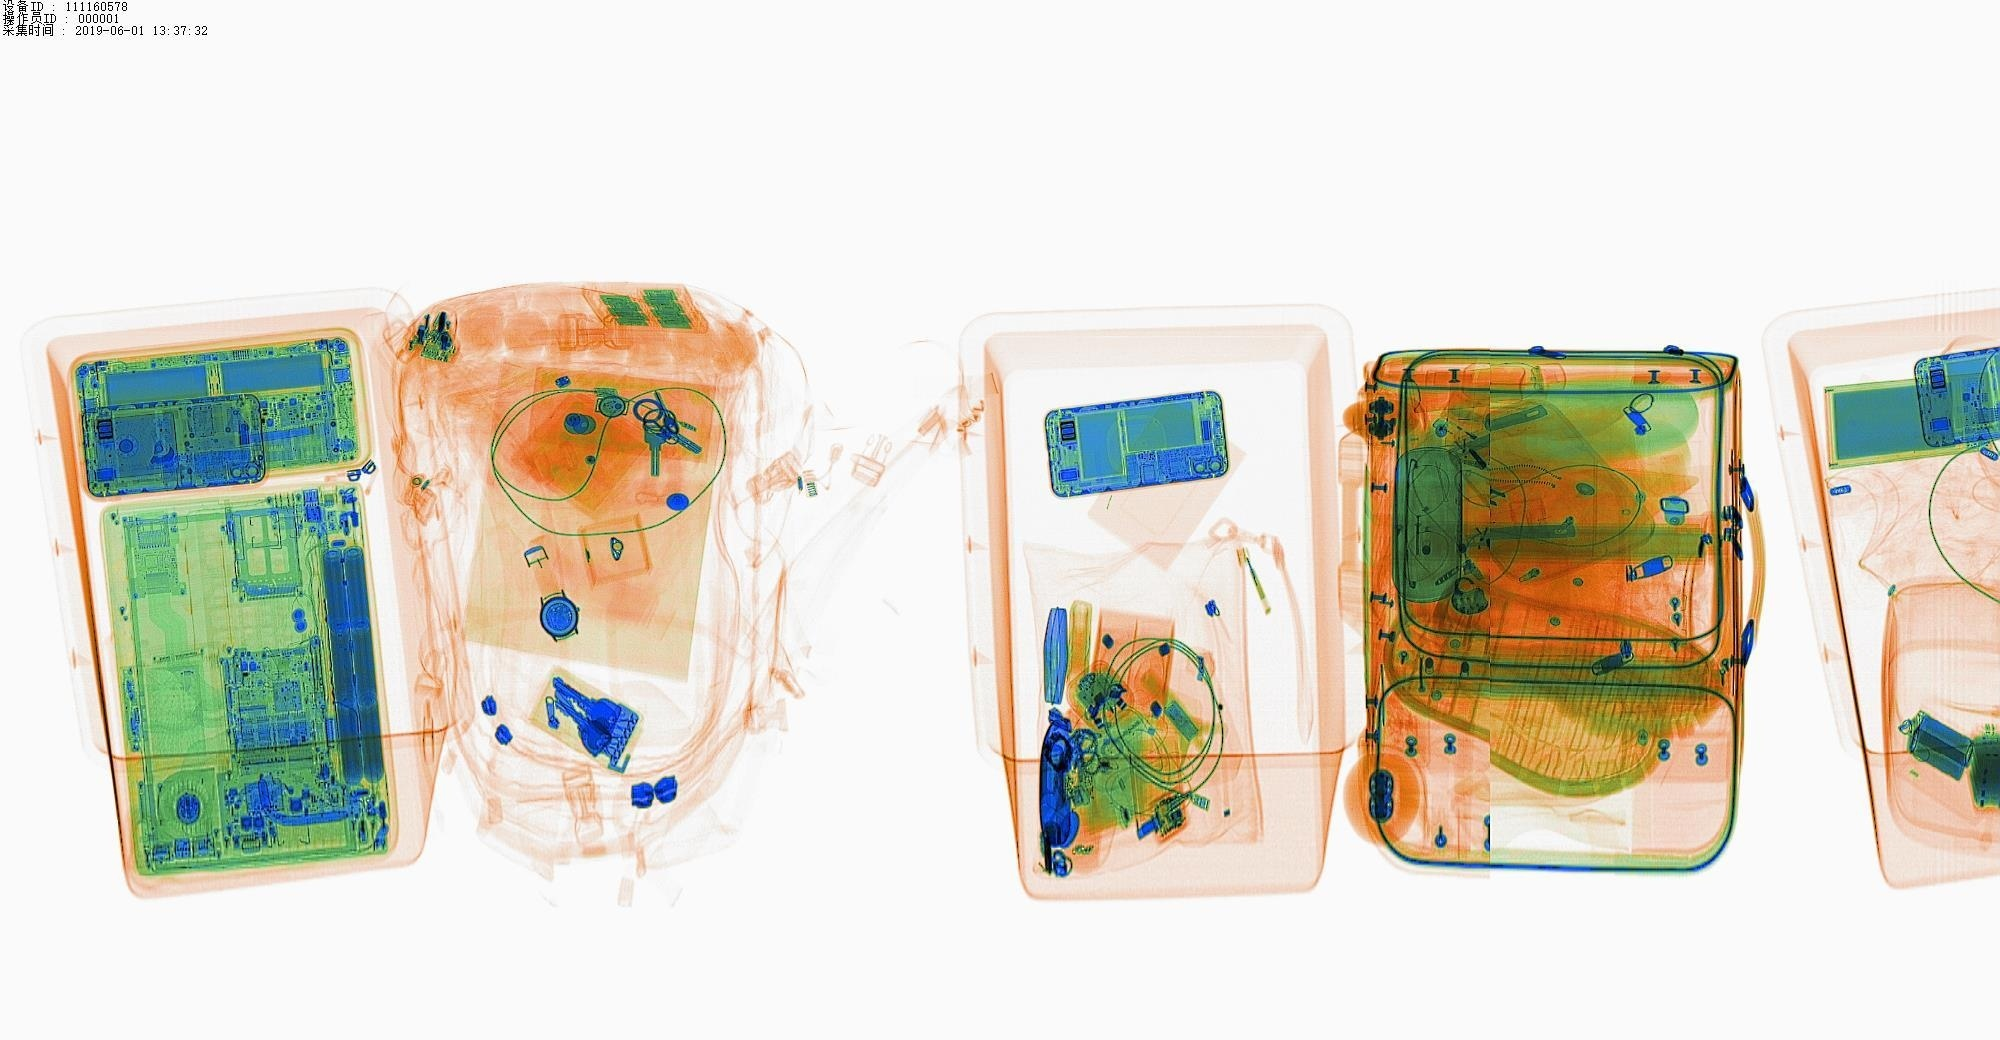NonmetallicFire: (1429, 405, 1515, 482)
